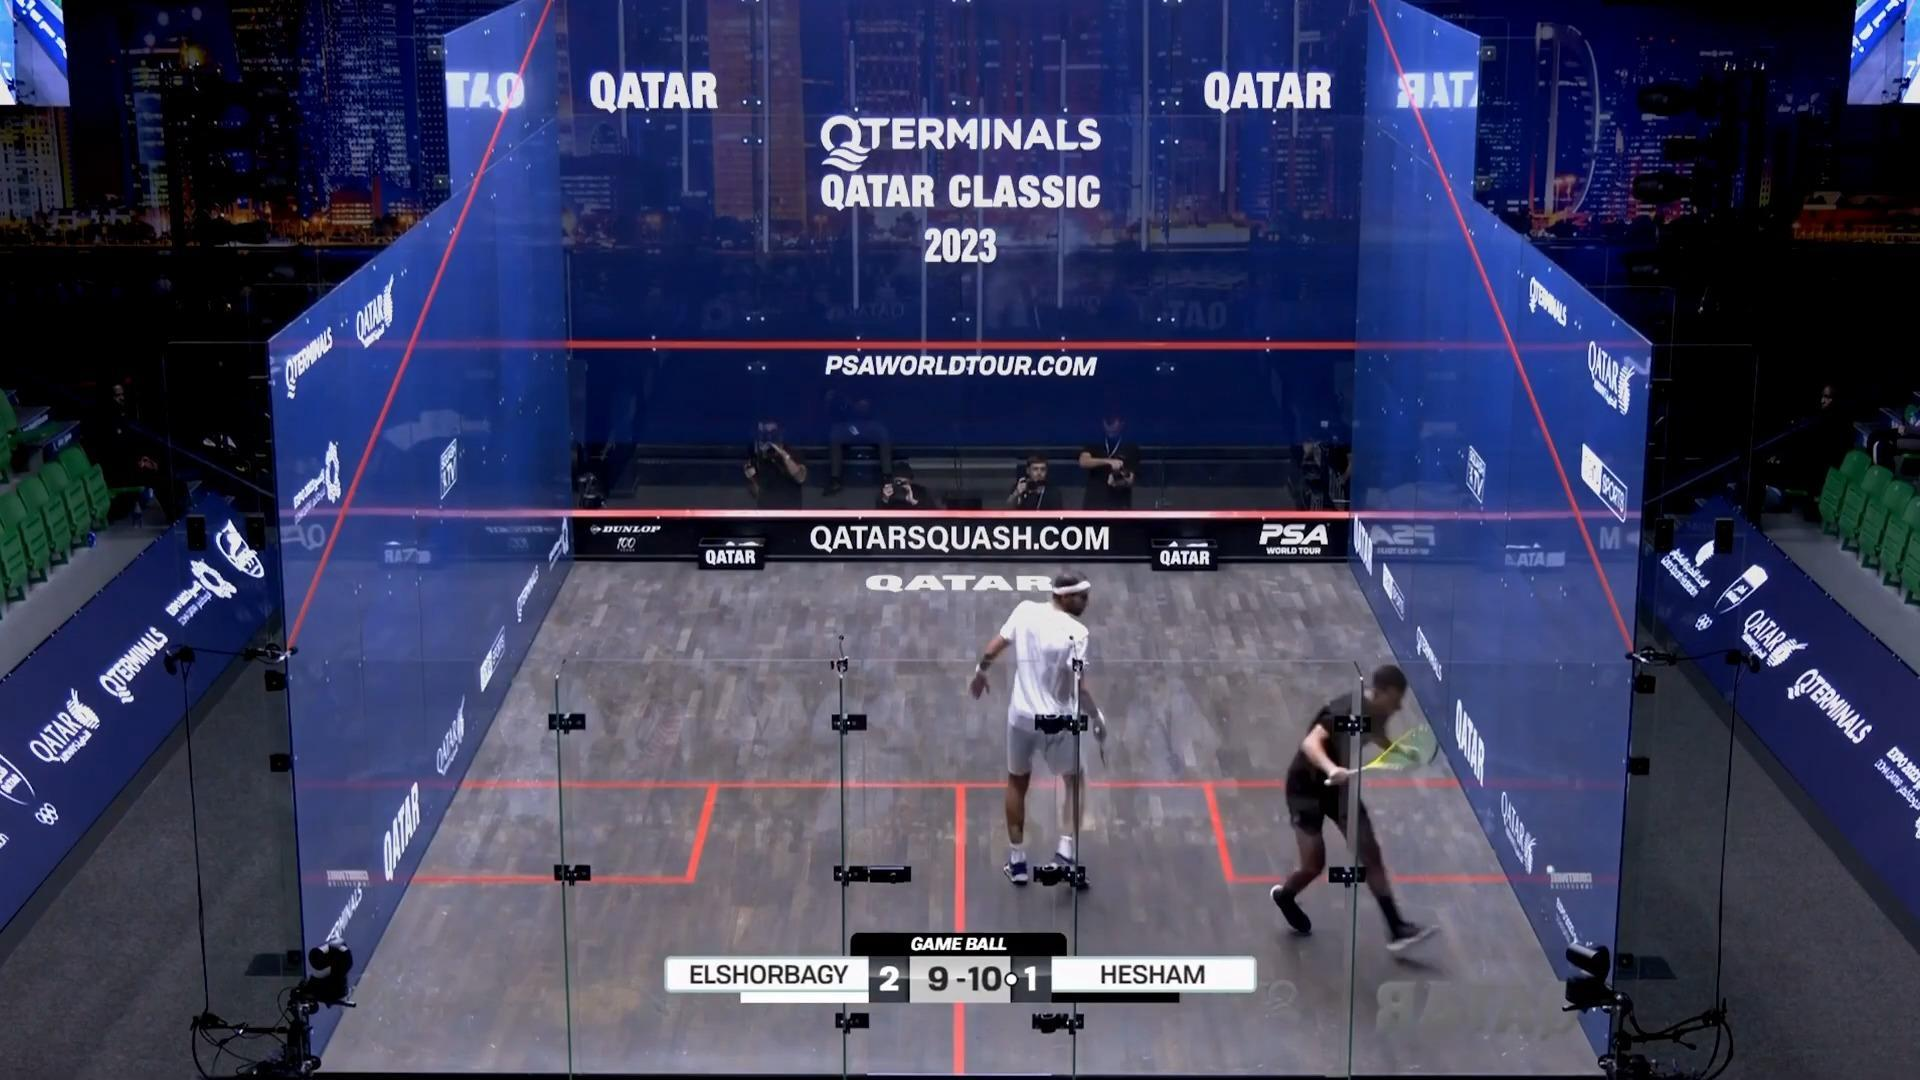Squash-Ball: (1536, 852, 1564, 887)
